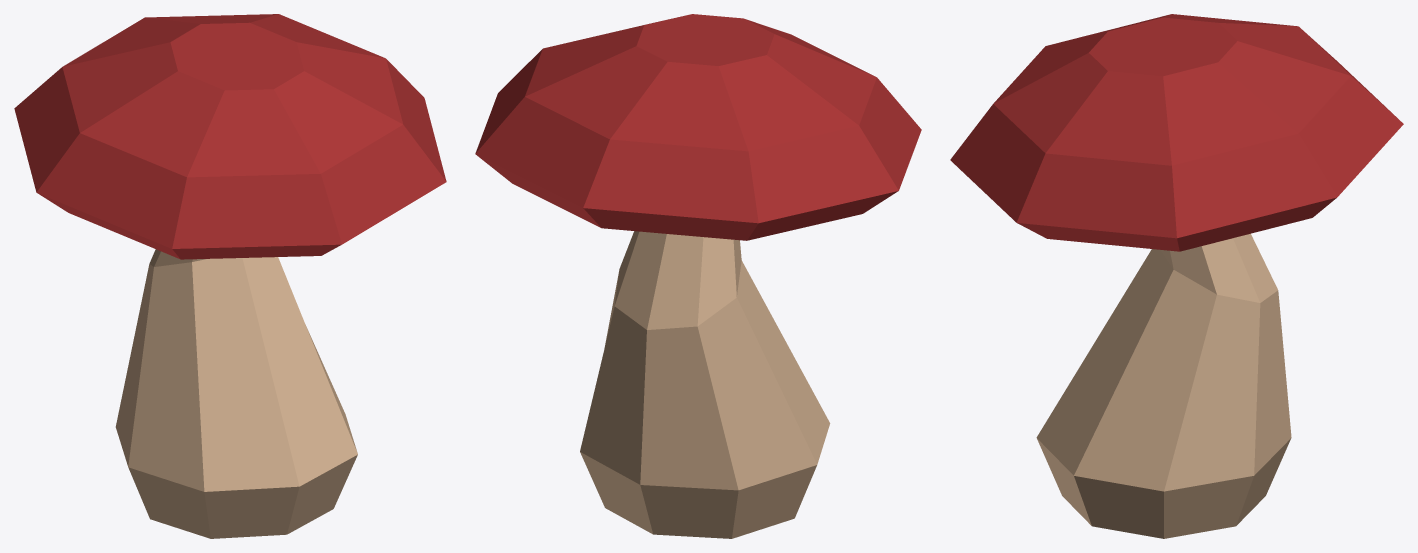
The model's file is mushroom_tiny.fbx.
3 views of the same model, side by side, from view 1: azimuth 30°, elevation 25°; view 2: azimuth 150°, elevation 25°; view 3: azimuth 270°, elevation 25° (orthographic). The views are drawn at different scales.
Visible parts, largest first — view 1: Mushroom_Small; view 2: Mushroom_Small; view 3: Mushroom_Small.
Part boxes in pixels (<box>): Mushroom_Small: <box>14,14,446,538</box>; Mushroom_Small: <box>475,14,921,538</box>; Mushroom_Small: <box>950,14,1403,538</box>.
Bounding box in the file's own units: 89.31 × 98.39 × 88.97.
